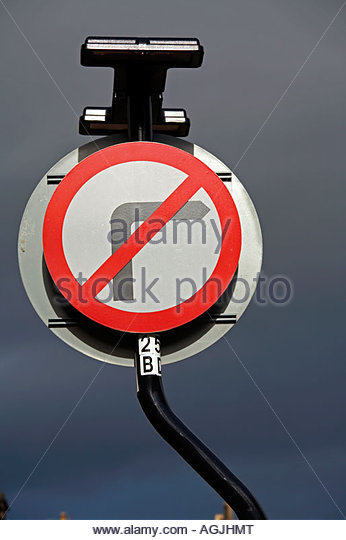No_right_turn: (43, 142, 243, 332)
